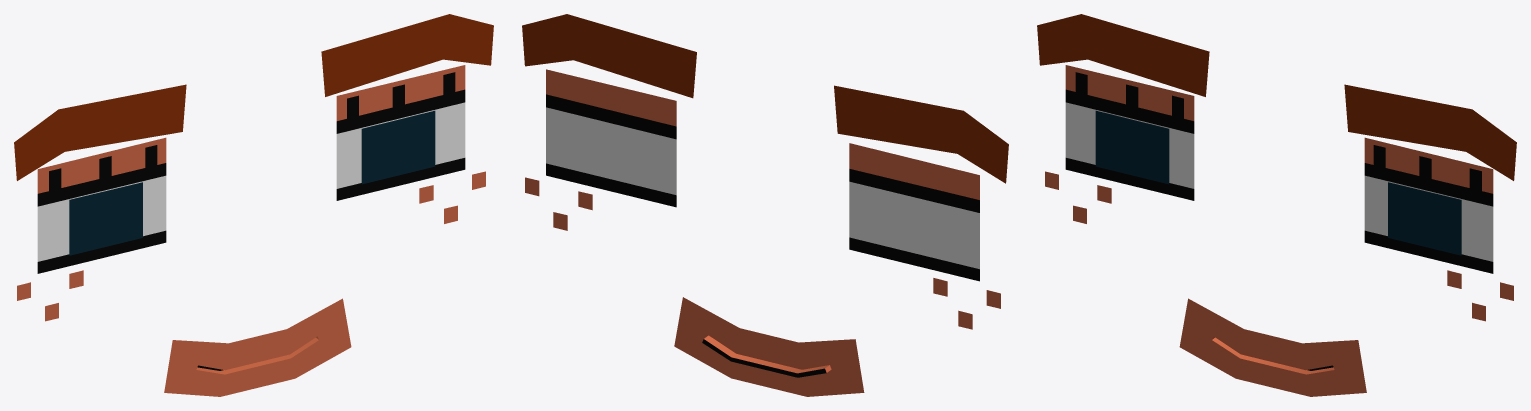
Rendered from Face Female 04.FBX.
3 renders of one model, left to right at view 1: azimuth 30°, elevation 25°; view 2: azimuth 150°, elevation 25°; view 3: azimuth 330°, elevation 25°, orthographic.
Visible parts, largest first — view 1: Face Female 04; view 2: Face Female 04; view 3: Face Female 04.
Boxes of the visible parts, x1,y1,x2,y2 form: Face Female 04: (14, 14, 493, 396); Face Female 04: (522, 14, 1008, 396); Face Female 04: (1037, 14, 1516, 396).
Bounding box in the file's own units: 44.51 × 28.66 × 1.01.
Materials: 1 (1 with a texture image).
